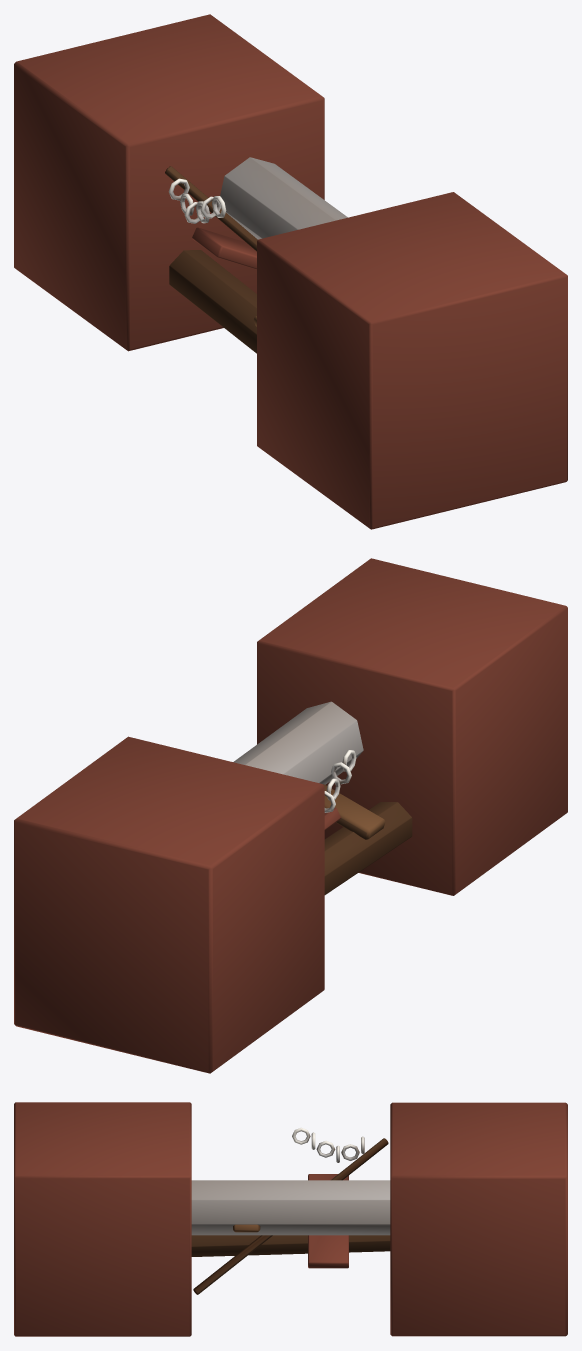
File: R4C_STRUT_STANDARD.fbx
3 renders of one model, top to bottom at view 1: azimuth 30°, elevation 25°; view 2: azimuth 150°, elevation 25°; view 3: azimuth 270°, elevation 25°, orthographic. The views are drawn at different scales.
Visible parts, largest first — view 1: R4C_STRUT_STANDARD; view 2: R4C_STRUT_STANDARD; view 3: R4C_STRUT_STANDARD.
Boxes of the visible parts, x1,y1,x2,y2 form: R4C_STRUT_STANDARD: [14, 14, 567, 529]; R4C_STRUT_STANDARD: [14, 558, 567, 1073]; R4C_STRUT_STANDARD: [14, 1102, 567, 1336].
Size of the model in its own units: 0.52 by 0.52 by 1.62.
